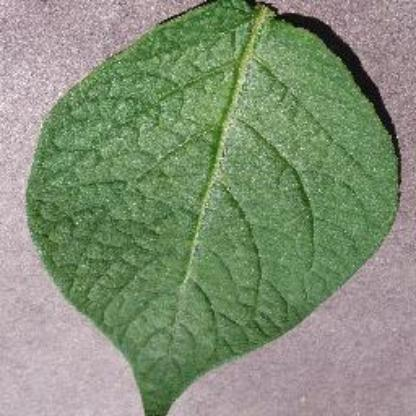Healthy-plant: (25, 0, 399, 414)
